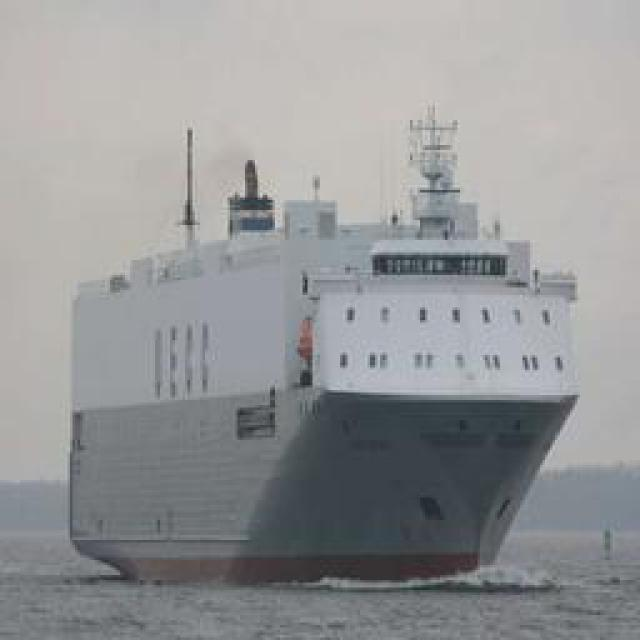Ship: (76, 94, 579, 597)
